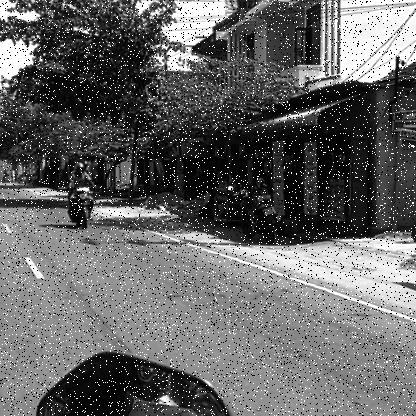motorcycle: (66, 187, 98, 231)
